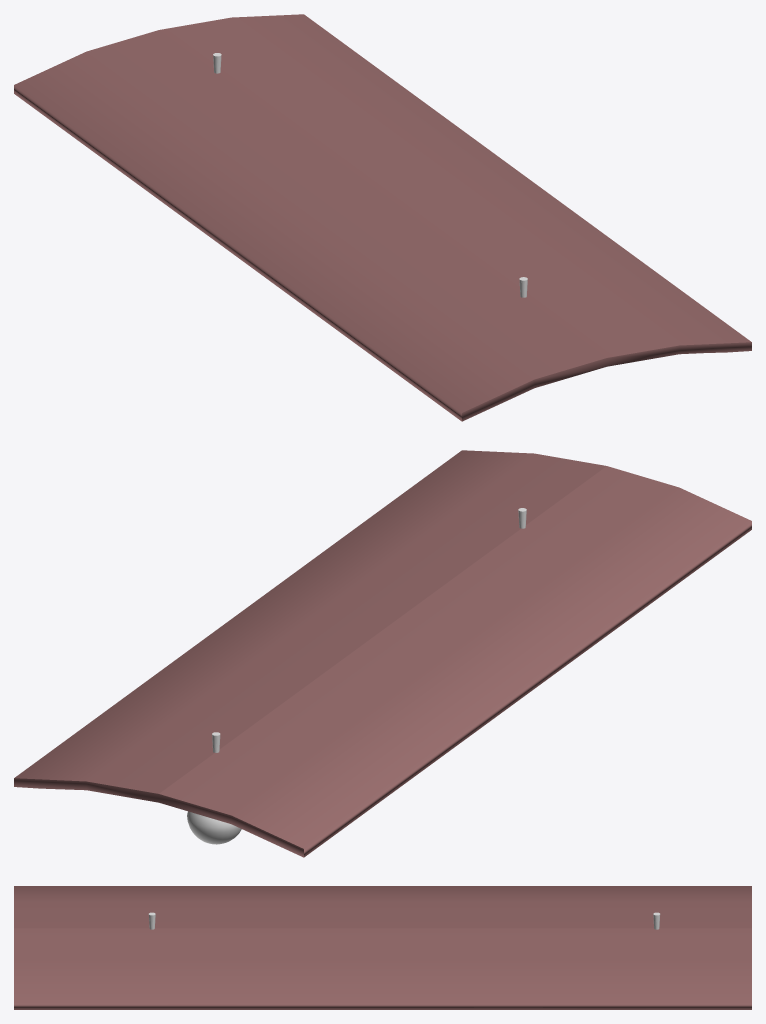
Rendered from roof.fbx.
3 views of the same model, one above another, from view 1: azimuth 30°, elevation 25°; view 2: azimuth 150°, elevation 25°; view 3: azimuth 270°, elevation 25° (orthographic). The views are drawn at different scales.
Visible parts, largest first — view 1: Cube; view 2: Cube, Sphere; view 3: Cube.
Boxes of the visible parts, box(x1,y1,x2,y2) form: Cube: box(14, 14, 751, 421); Cube: box(14, 450, 751, 857); Sphere: box(187, 732, 241, 844); Cube: box(14, 886, 751, 1009).
Size of the model in its own units: 1142 by 406 by 3058.
